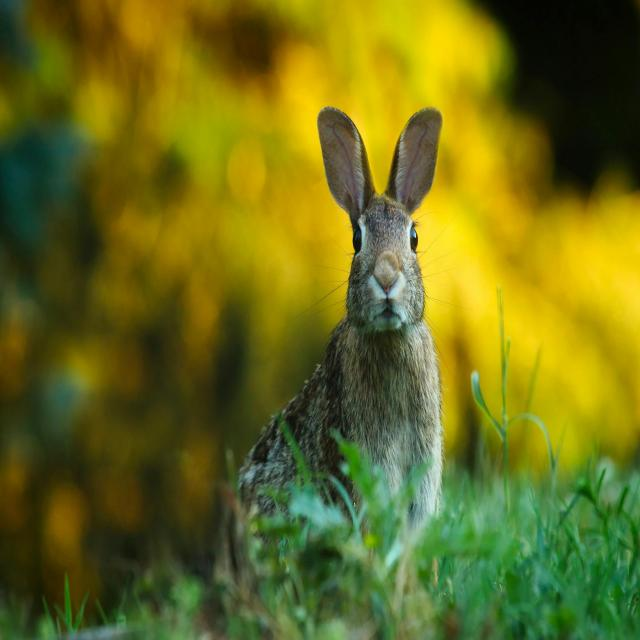Hare: (226, 91, 448, 574)
